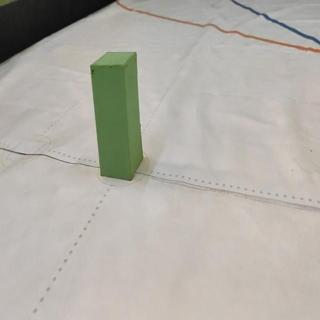greenbox: (91, 52, 145, 181)
